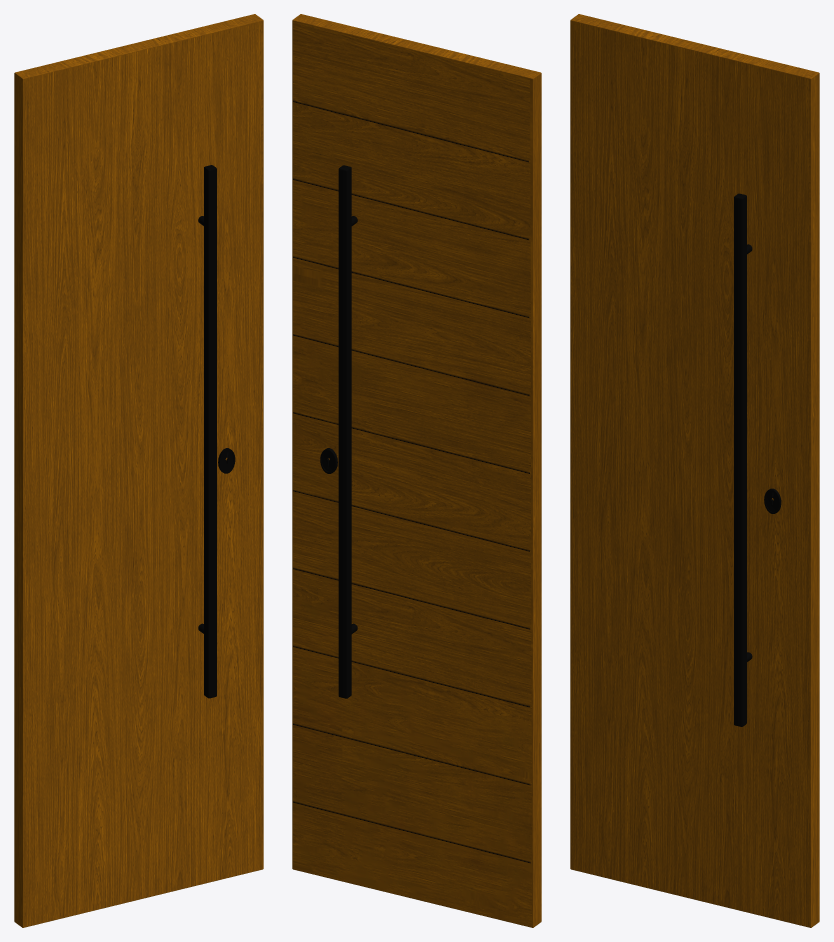
File: VL_15_full1_door.glb
3 views of the same model, side by side, from view 1: azimuth 30°, elevation 25°; view 2: azimuth 150°, elevation 25°; view 3: azimuth 330°, elevation 25° (orthographic).
Parts seen in each view (by area): view 1: VL_15:V_L_15__1_door; view 2: VL_15:V_L_15__1_door; view 3: VL_15:V_L_15__1_door.
Part boxes in pixels (left/top/right/bottom): VL_15:V_L_15__1_door: left=14, top=14, right=263, bottom=927; VL_15:V_L_15__1_door: left=292, top=14, right=541, bottom=927; VL_15:V_L_15__1_door: left=570, top=14, right=819, bottom=927.
Bounding box in the file's own units: 0.523 × 1.76 × 0.1192.
1 material, 1 textured.
